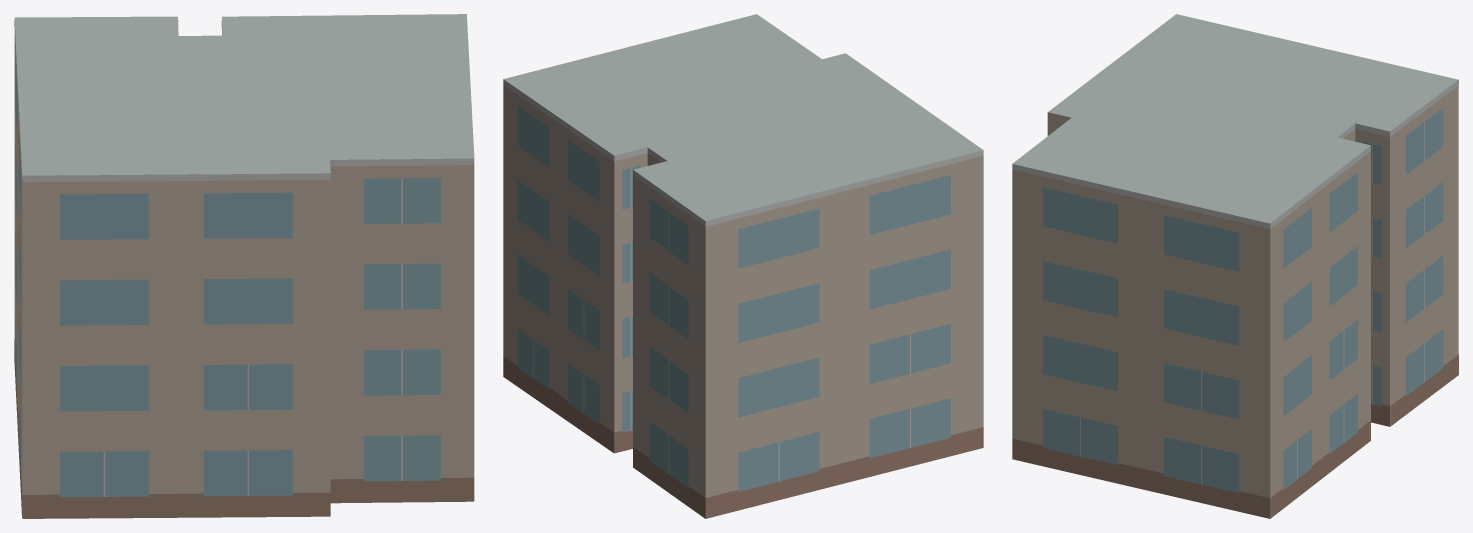
The model's file is survey-upis-32582979.glb.
3 renders of one model, left to right at view 1: azimuth 30°, elevation 25°; view 2: azimuth 150°, elevation 25°; view 3: azimuth 270°, elevation 25°, orthographic. The views are drawn at different scales.
Visible parts, largest first — view 1: survey-upis-32582979.tmp; view 2: survey-upis-32582979.tmp; view 3: survey-upis-32582979.tmp.
Part boxes in pixels (box(x1,y1,x2,y2)): survey-upis-32582979.tmp: box(14, 14, 474, 518); survey-upis-32582979.tmp: box(503, 14, 983, 518); survey-upis-32582979.tmp: box(1012, 14, 1458, 518).
Bounding box in the file's own units: 19.49 × 12.8 × 17.55.
